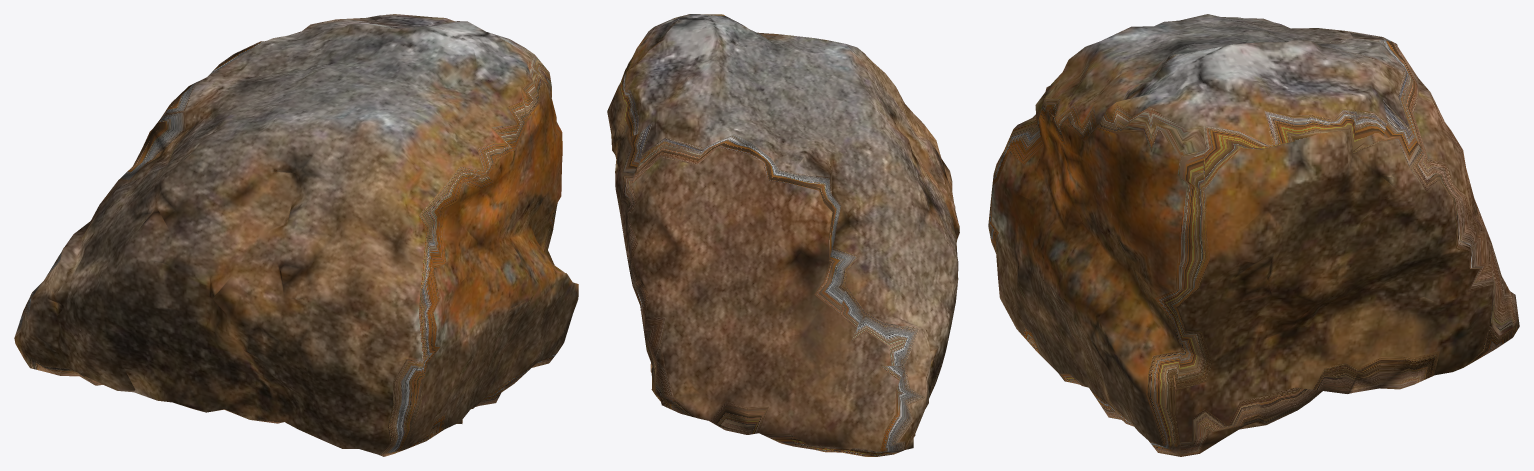
Rendered from boulder.glb.
3 renders of one model, left to right at view 1: azimuth 30°, elevation 25°; view 2: azimuth 150°, elevation 25°; view 3: azimuth 270°, elevation 25°, orthographic. The views are drawn at different scales.
Parts seen in each view (by area): view 1: lod0; view 2: lod0; view 3: lod0.
Part boxes in pixels (x1,y1,x2,y2): lod0: (14,14,578,456); lod0: (607,14,959,456); lod0: (988,14,1519,456).
Bounding box in the file's own units: 1.76 × 1.32 × 1.74.
Materials: 1 (1 with a texture image).
